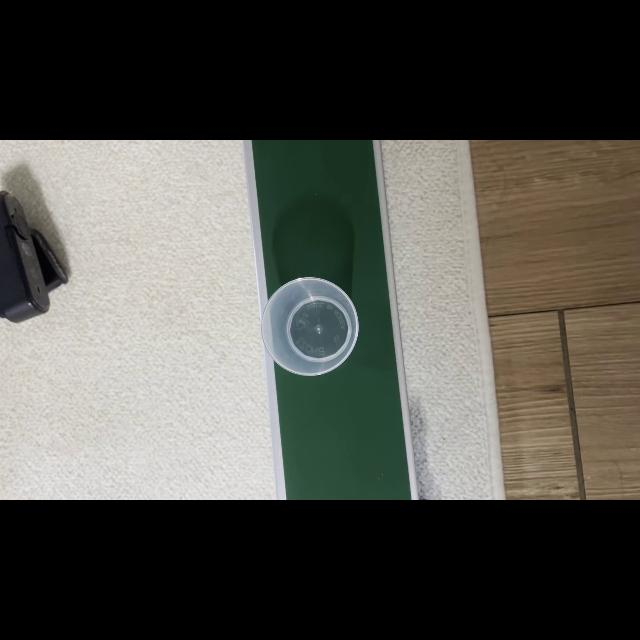clean: (260, 282, 360, 371)
